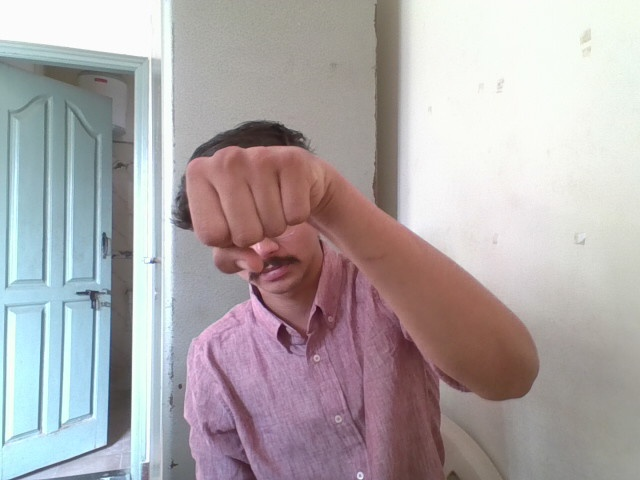yes: (178, 137, 324, 282)
